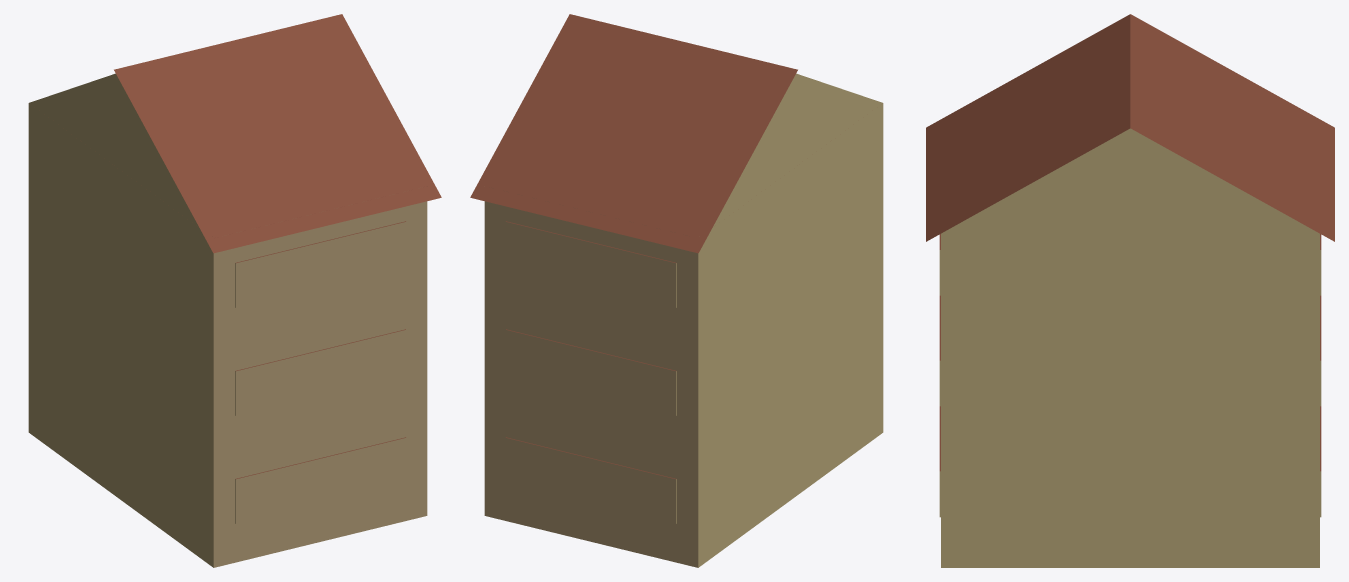
The model's file is cove-house-yellow.far-facades-v2.lod2.glb.
3 views of the same model, side by side, from view 1: azimuth 30°, elevation 25°; view 2: azimuth 150°, elevation 25°; view 3: azimuth 270°, elevation 25° (orthographic). The views are drawn at different scales.
Visible parts, largest first — view 1: cove-house-yellow; view 2: cove-house-yellow; view 3: cove-house-yellow.
Boxes of the visible parts, bbox=[...] form: cove-house-yellow: bbox=[28, 14, 441, 567]; cove-house-yellow: bbox=[470, 14, 883, 567]; cove-house-yellow: bbox=[926, 14, 1334, 567].
Bounding box in the file's own units: 6.42 × 11.61 × 9.7.
